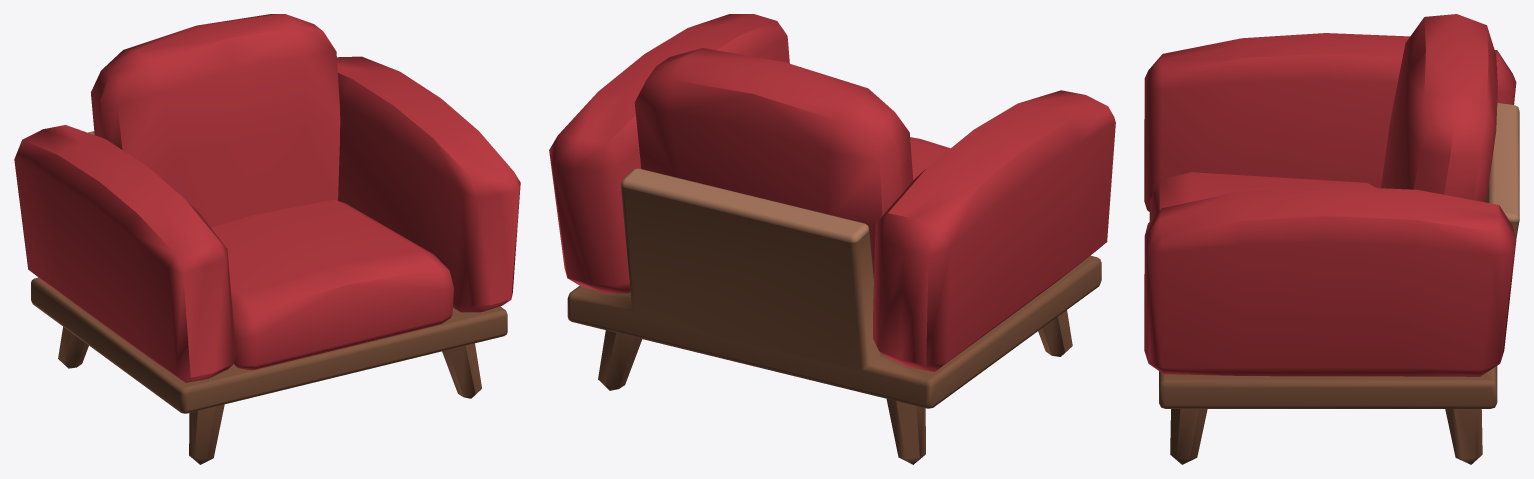
The model's file is poltrona_capitone_vermelha_cassino_pacote.glb.
3 renders of one model, left to right at view 1: azimuth 30°, elevation 25°; view 2: azimuth 150°, elevation 25°; view 3: azimuth 270°, elevation 25°, orthographic. The views are drawn at different scales.
Visible parts, largest first — view 1: poltrona_capitone_vermelha_cassino_pacote; view 2: poltrona_capitone_vermelha_cassino_pacote; view 3: poltrona_capitone_vermelha_cassino_pacote.
Part boxes in pixels (x1,y1,x2,y2): poltrona_capitone_vermelha_cassino_pacote: (14, 14, 520, 464); poltrona_capitone_vermelha_cassino_pacote: (549, 14, 1115, 464); poltrona_capitone_vermelha_cassino_pacote: (1144, 14, 1519, 464).
Bounding box in the file's own units: 1.05 × 0.8659 × 0.854.
1 material, 1 textured.
